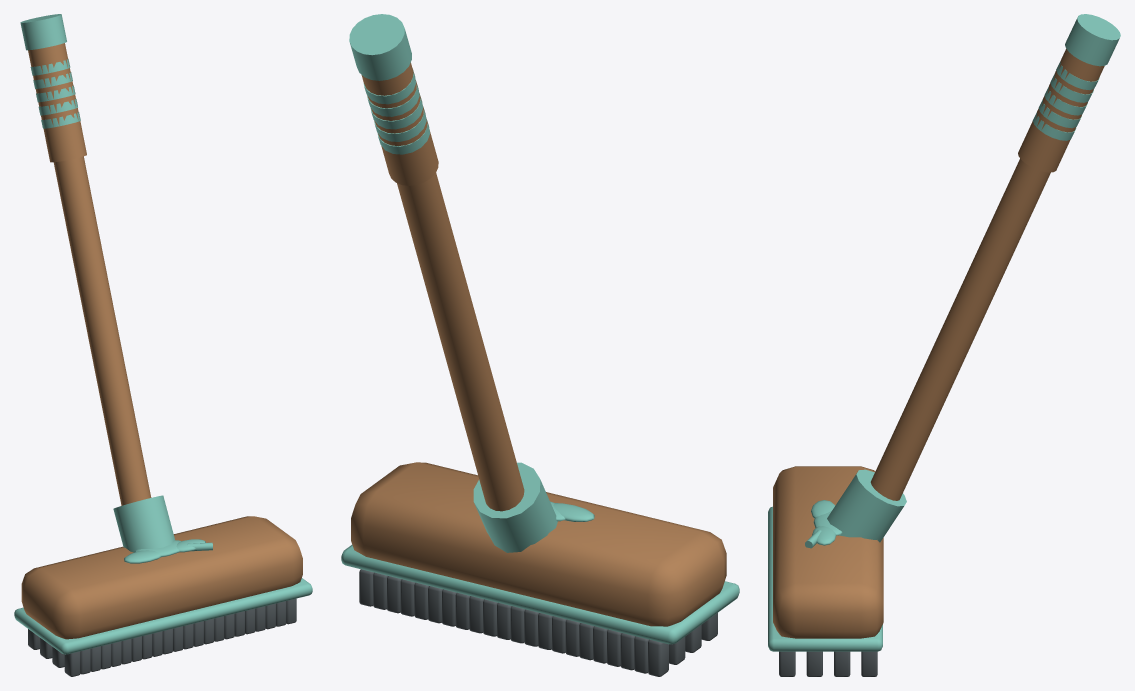
The model's file is tier_7_jade_cloud.glb.
3 renders of one model, left to right at view 1: azimuth 30°, elevation 25°; view 2: azimuth 150°, elevation 25°; view 3: azimuth 270°, elevation 25°, orthographic. The views are drawn at different scales.
Parts seen in each view (by area): view 1: BrushTier7_Cloud; view 2: BrushTier7_Cloud; view 3: BrushTier7_Cloud.
Part boxes in pixels (left/top/right/bottom): BrushTier7_Cloud: left=14, top=14, right=312, bottom=676; BrushTier7_Cloud: left=341, top=14, right=739, bottom=676; BrushTier7_Cloud: left=768, top=14, right=1120, bottom=676.
Size of the model in its own units: 0.79 by 1.61 by 0.8603.
